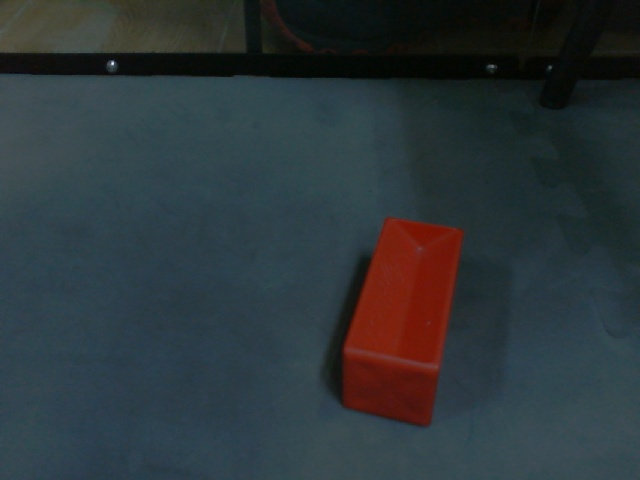RedSample: (336, 213, 466, 432)
